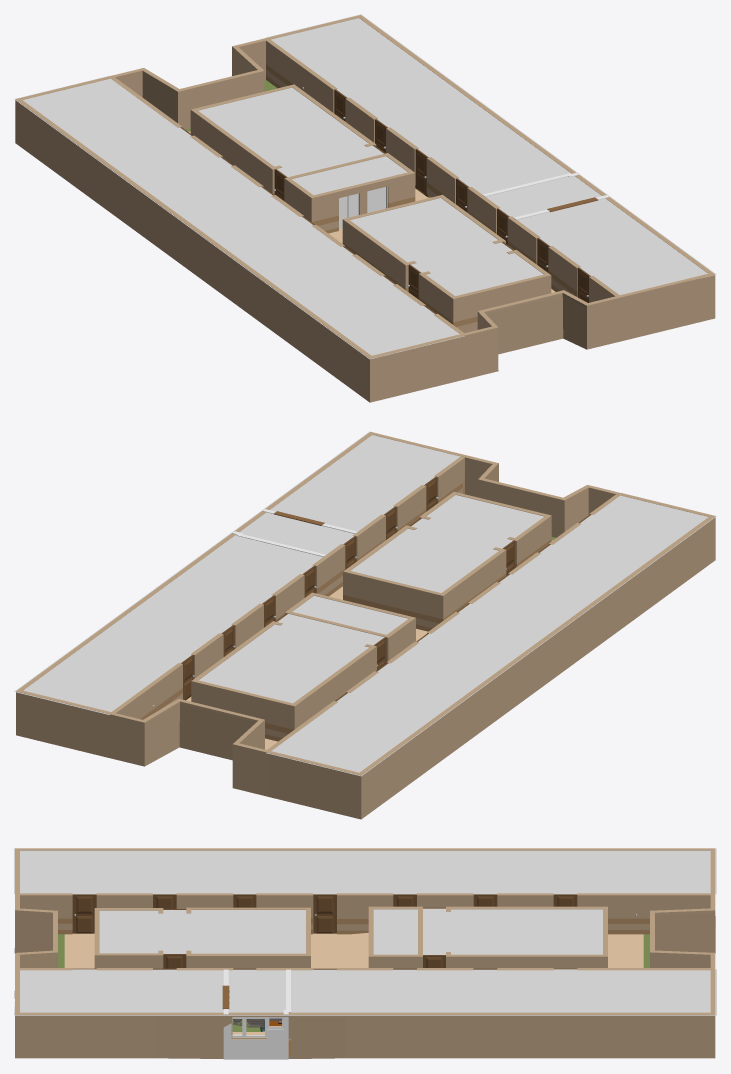
File: LVL1.fbx
The picture shows the model from 3 angles, top to bottom: view 1: azimuth 30°, elevation 25°; view 2: azimuth 150°, elevation 25°; view 3: azimuth 270°, elevation 25°; orthographic projection.
Parts seen in each view (by area): view 1: FogPlanes, LVL1, LVL1_layout, FogPlanes.002, LVL1_doors, FogPlanes.001, Elevator1; view 2: FogPlanes, LVL1, LVL1_layout, FogPlanes.002, FogPlanes.001, LVL1_doors; view 3: FogPlanes, LVL1, LVL1_layout, FogPlanes.002, LVL1_doors, FogPlanes.001, RoomWall, Okna, LVL1_doors.003.
Boxes of the visible parts, x1,y1,x2,y2 form: FogPlanes: (14, 14, 716, 359); LVL1: (15, 15, 715, 402); LVL1_layout: (111, 39, 619, 334); FogPlanes.002: (198, 87, 543, 295); LVL1_doors: (180, 87, 590, 314); FogPlanes.001: (486, 173, 610, 217); Elevator1: (339, 186, 387, 229); FogPlanes: (14, 431, 716, 776); LVL1: (16, 432, 715, 819); LVL1_layout: (111, 456, 619, 750); FogPlanes.002: (199, 495, 543, 703); FogPlanes.001: (231, 509, 354, 554); LVL1_doors: (152, 476, 591, 706); FogPlanes: (14, 848, 716, 1015); LVL1: (14, 848, 715, 1058); LVL1_layout: (20, 893, 710, 970); FogPlanes.002: (99, 908, 602, 954); LVL1_doors: (72, 894, 637, 969); FogPlanes.001: (224, 969, 288, 1015); RoomWall: (223, 969, 290, 1059); Okna: (231, 1017, 283, 1037); LVL1_doors.003: (163, 909, 186, 968).
Size of the model in its own units: 2149 by 282 by 3813.
